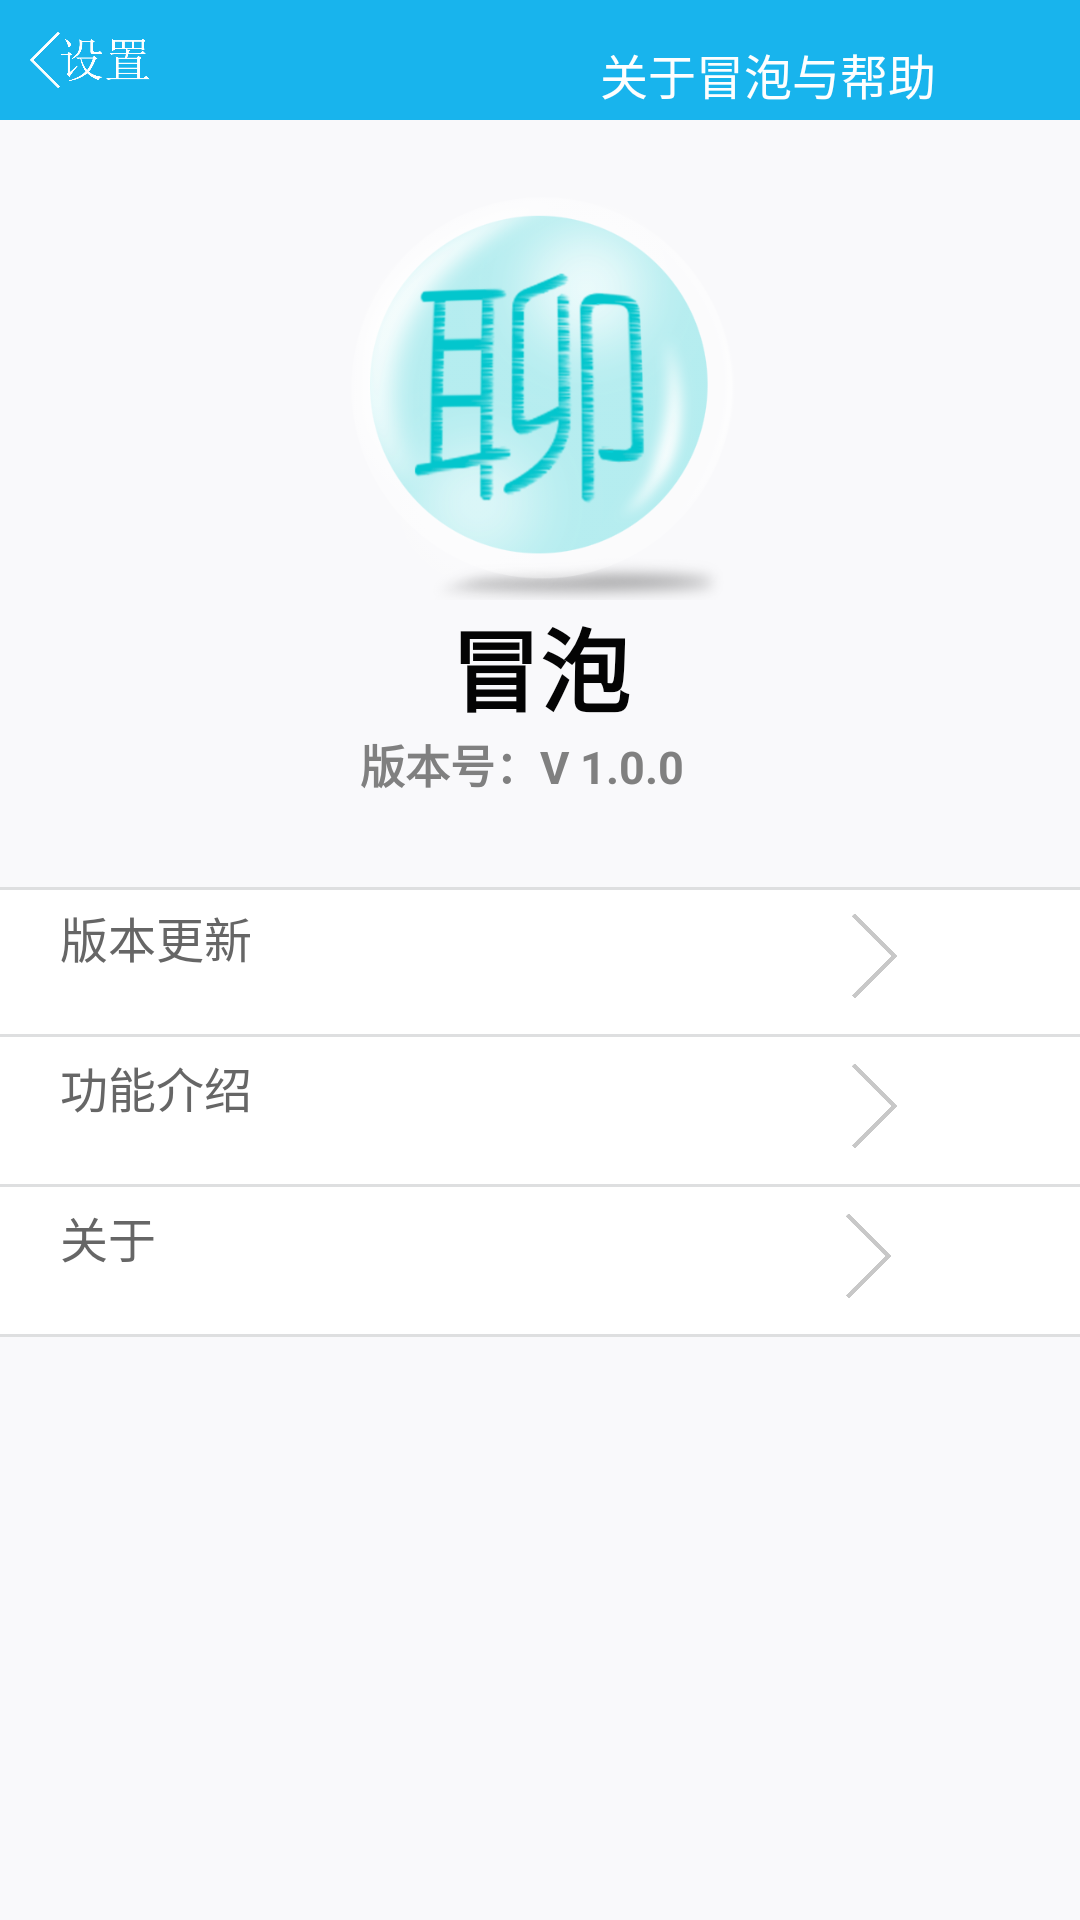

Where to tap for icons on this 1080x1920 app screen, as [x,y]:
arow: [874,956], [874,1106], [868,1256]
